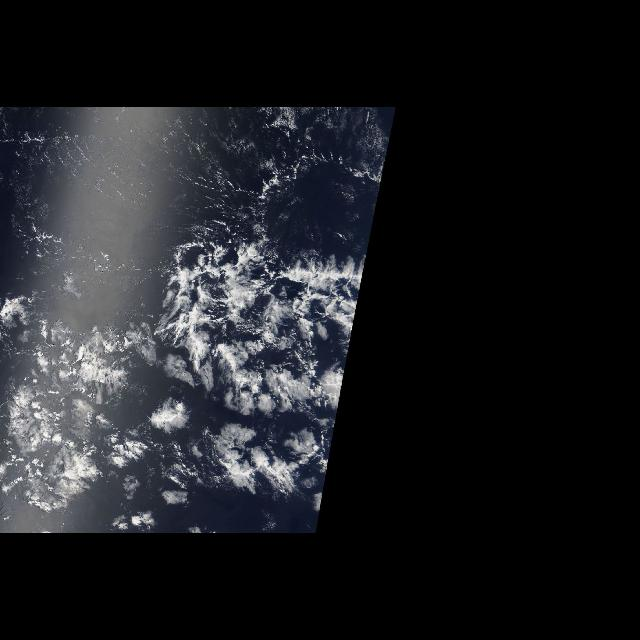Fish: (13, 260, 361, 408)
Flower: (3, 235, 370, 510)
Sugar: (11, 107, 396, 237)
